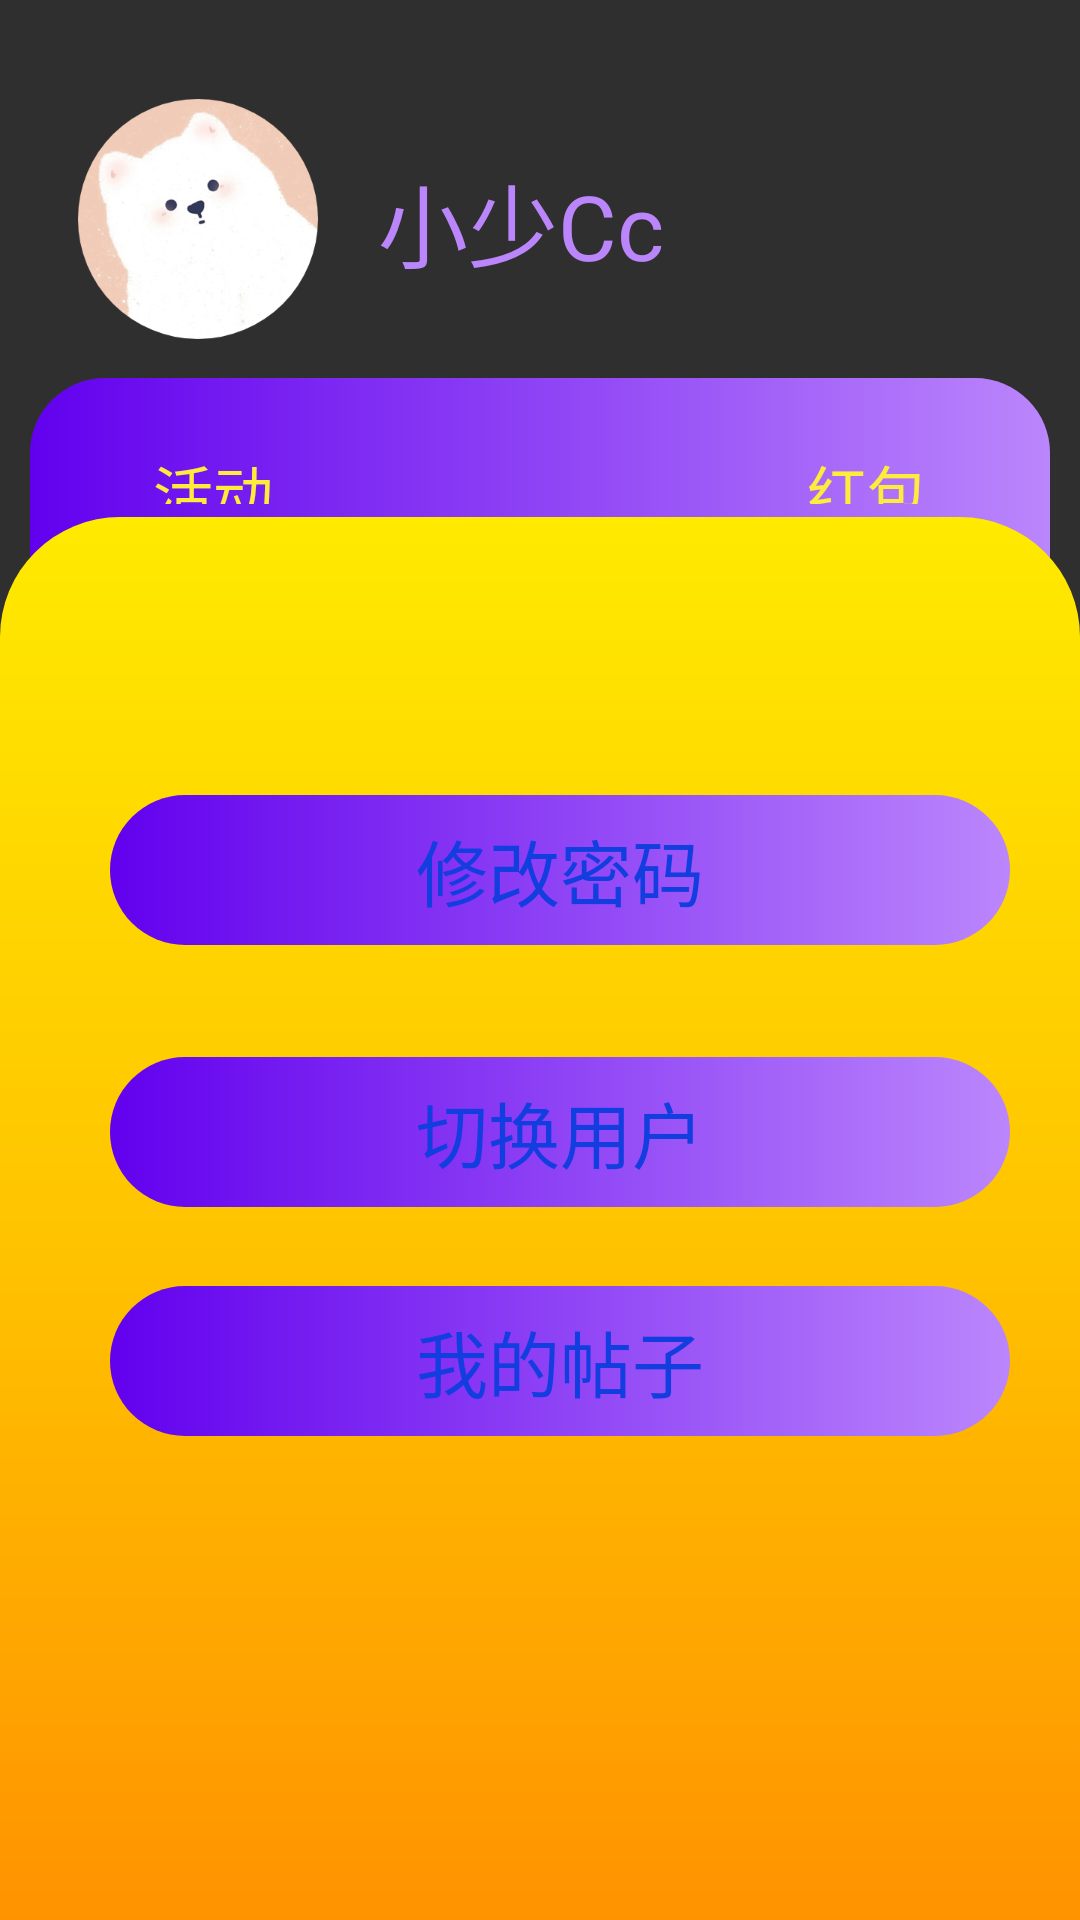

Named icons in this screenshot (1080 × 1920) and their bounding boxes, bbox(x1, y1, x2, y2):
person pic: bbox(78, 99, 318, 339)
